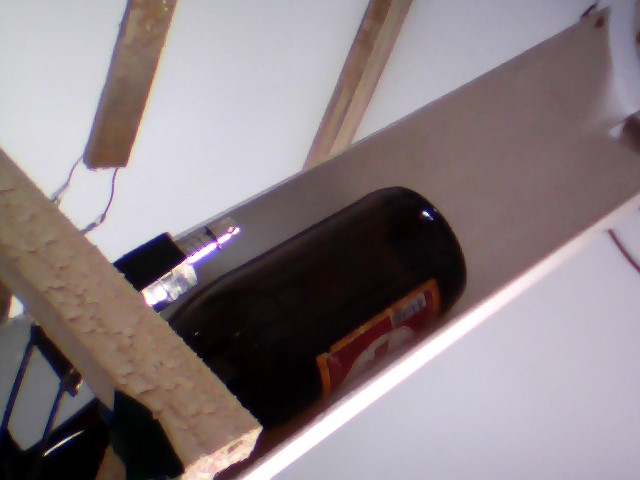vidrio: (180, 183, 475, 434)
